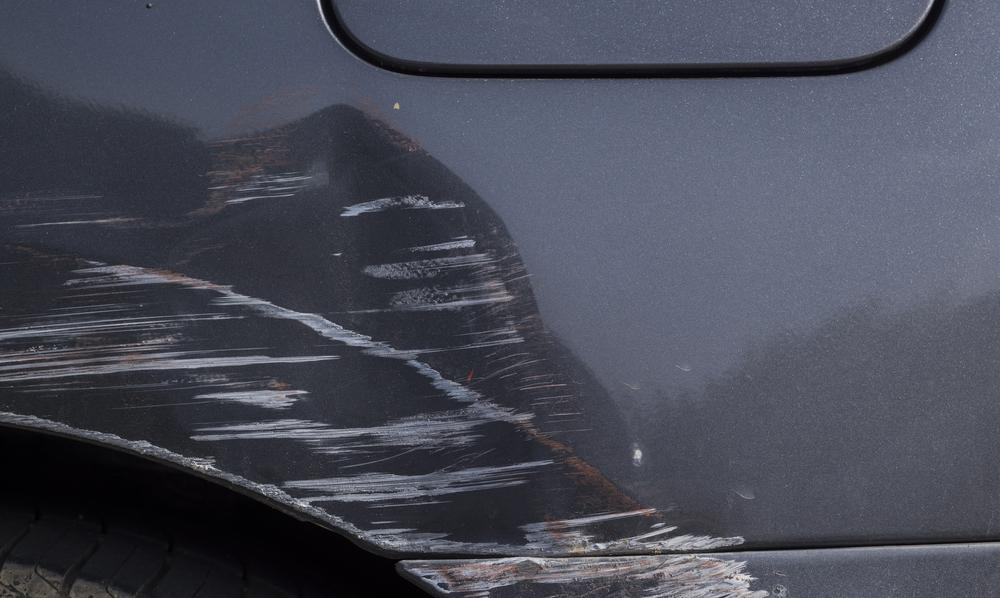dent: (172, 114, 539, 472)
scratch: (0, 172, 745, 557), (400, 553, 783, 598)
